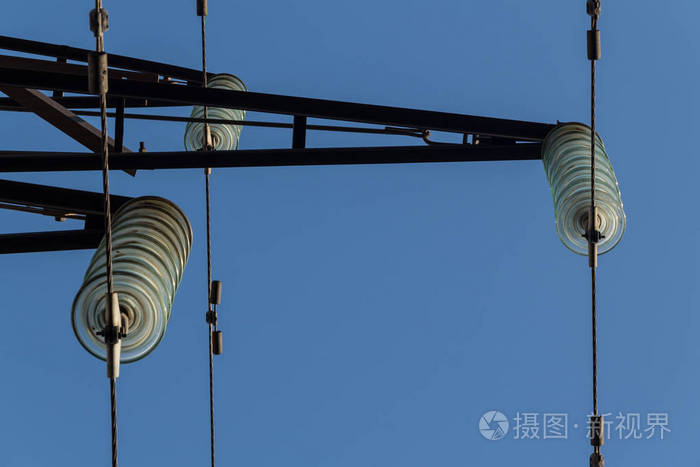insulator: (75, 196, 194, 365), (538, 120, 625, 256), (182, 73, 246, 151)
